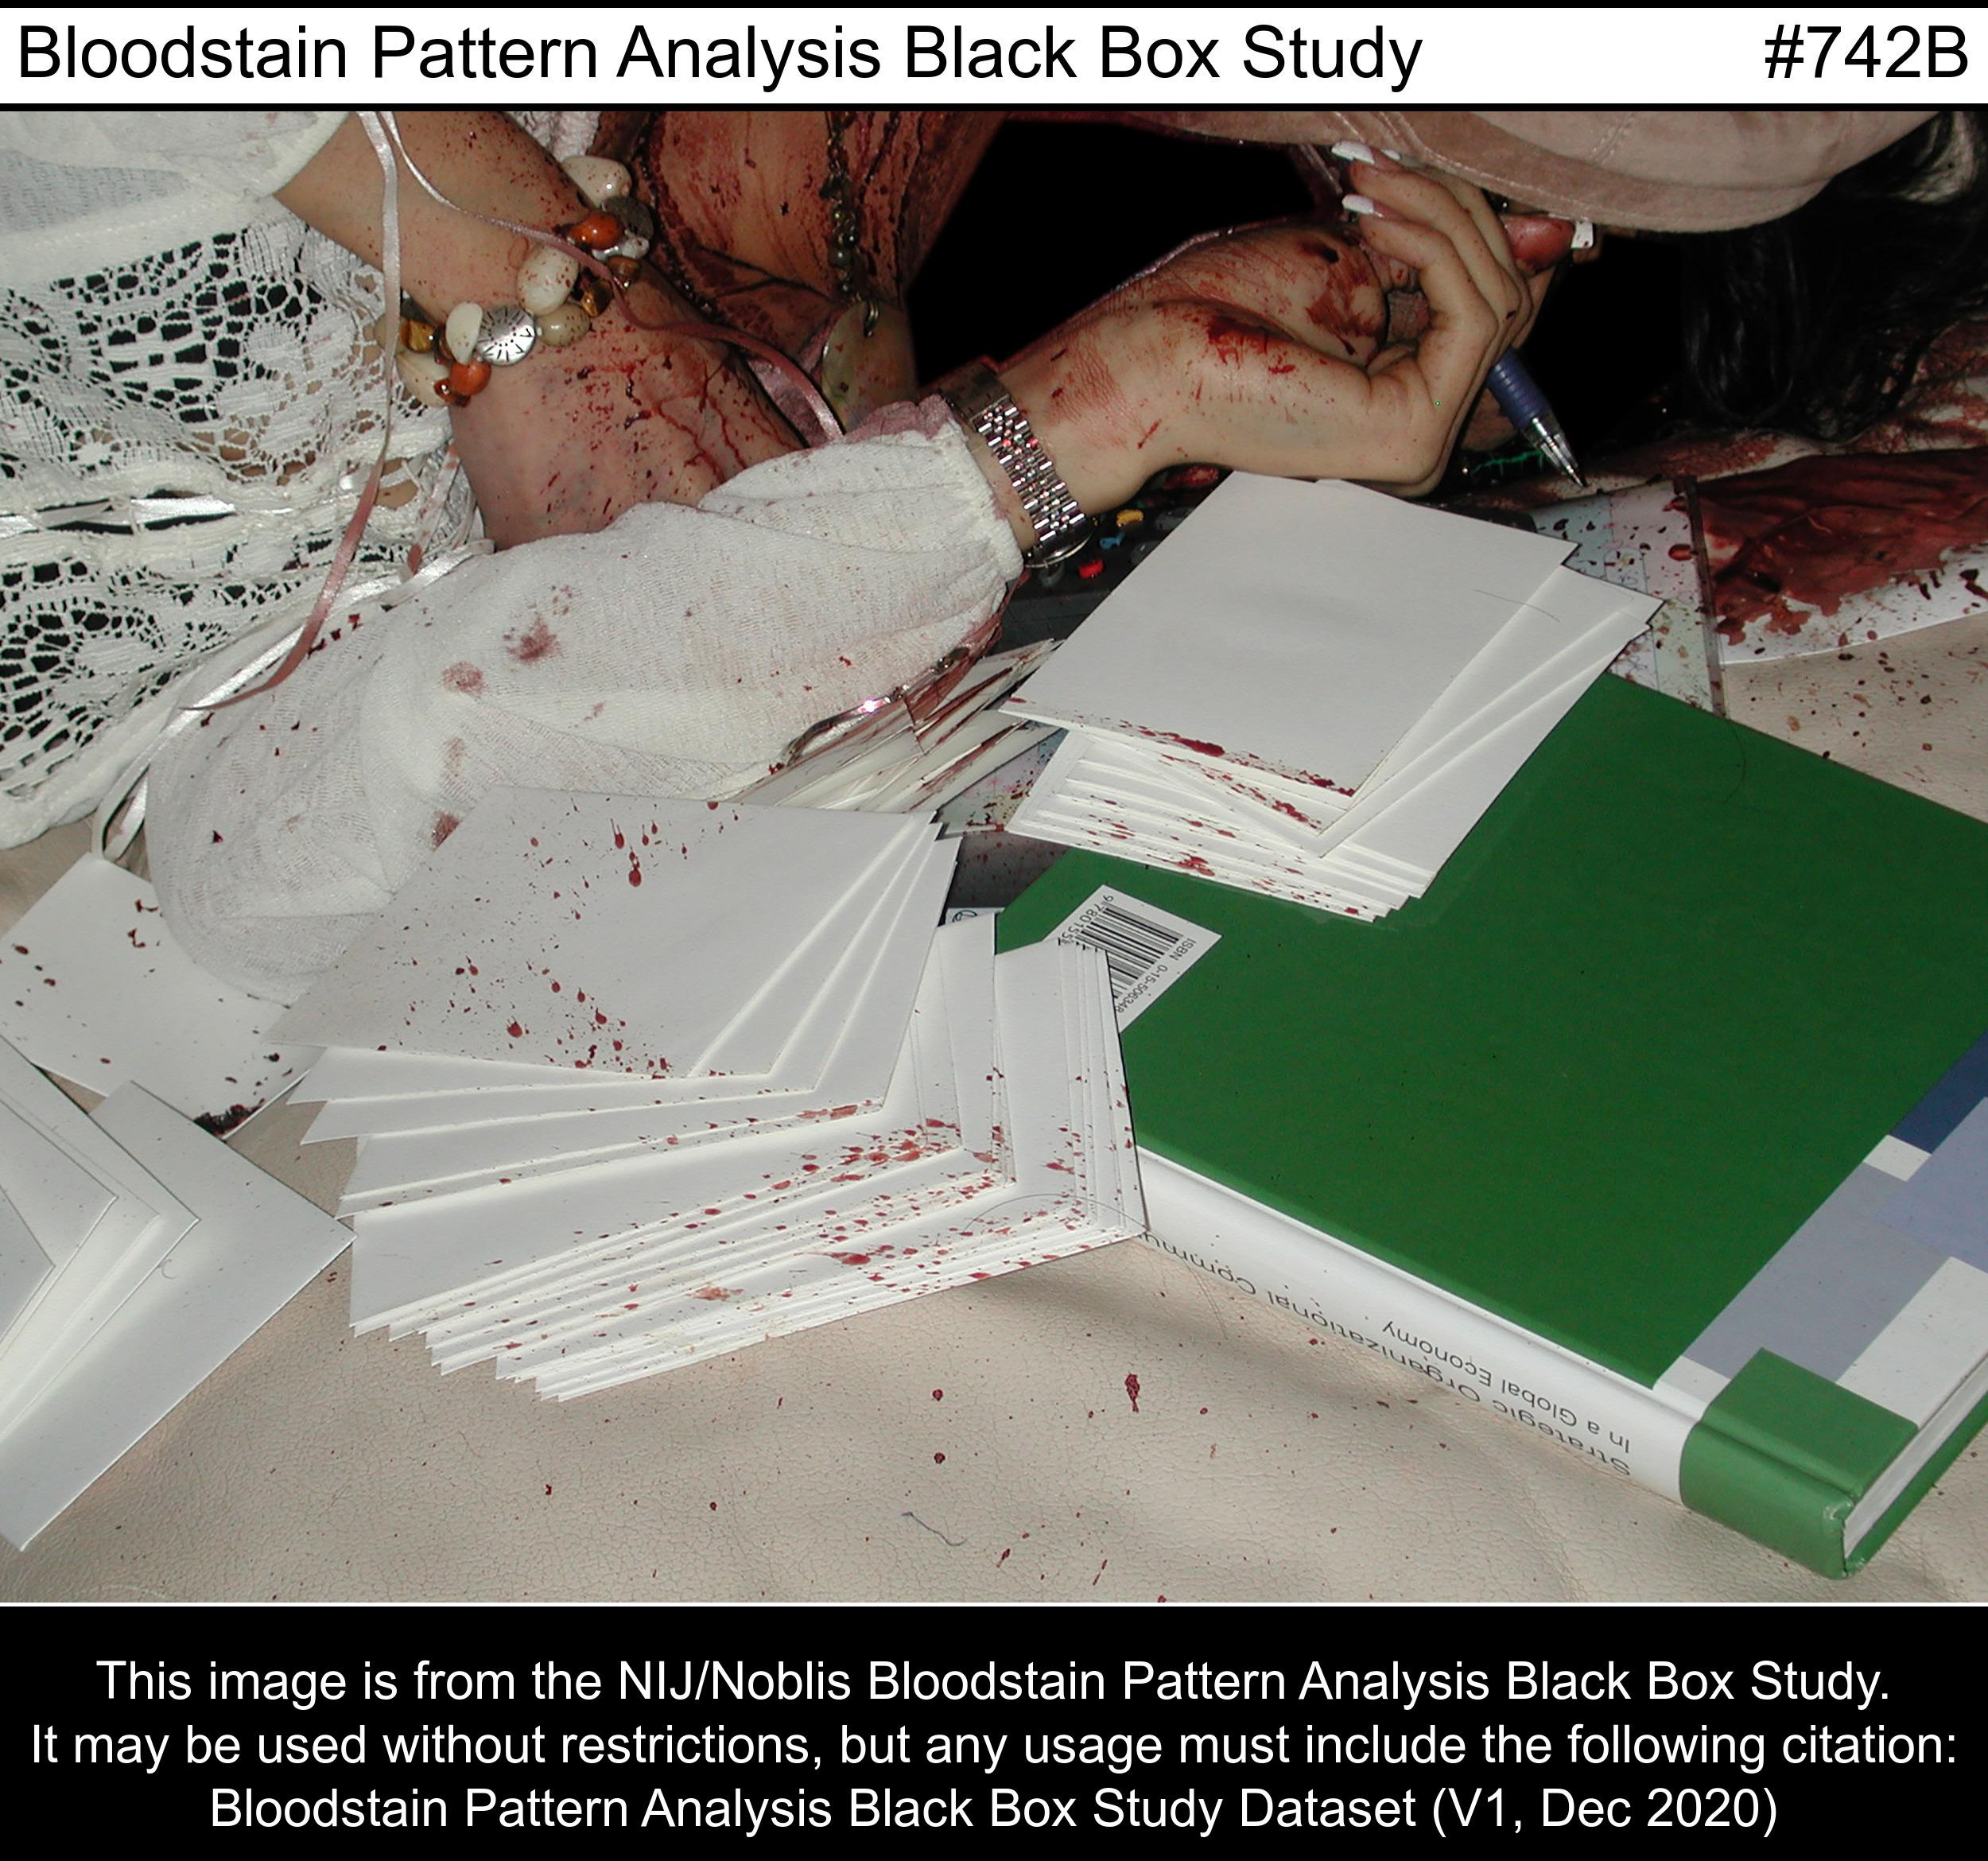Impact: (302, 747, 1421, 1600)
Passive: (1691, 446, 1988, 803)
